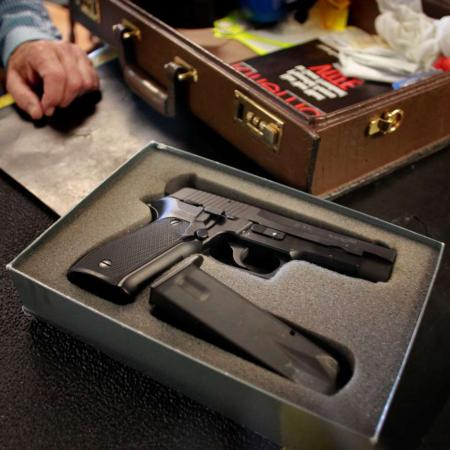Pistol: (71, 183, 394, 305)
